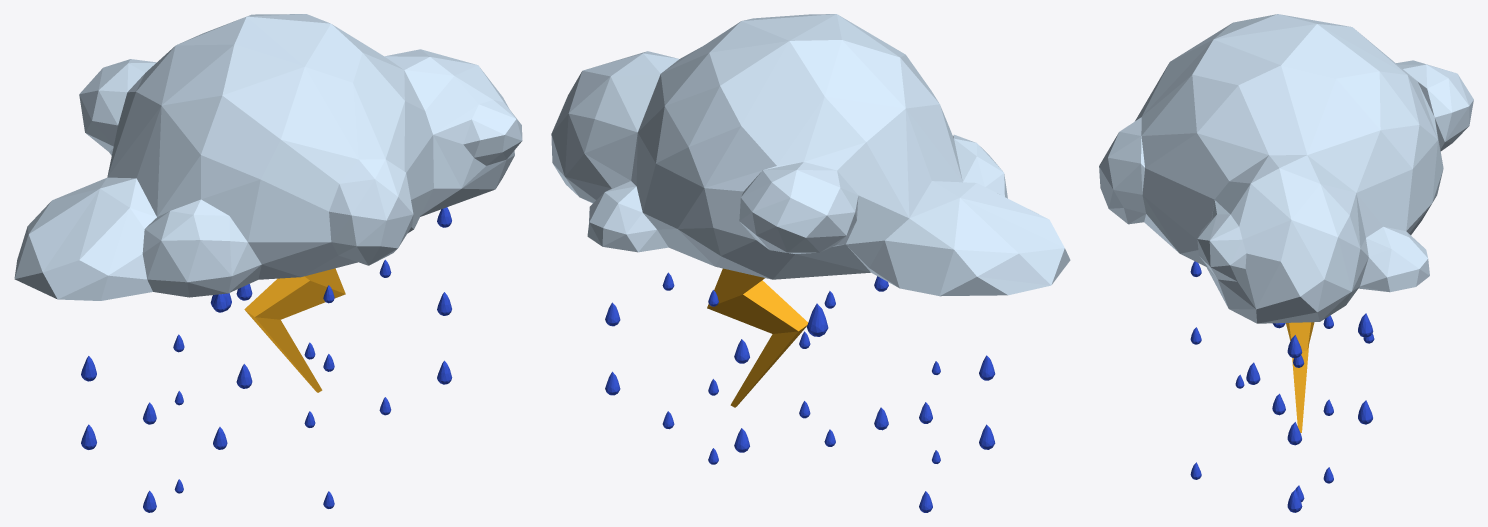
Rendered from Thunerstorm.gltf.
3 views of the same model, side by side, from view 1: azimuth 30°, elevation 25°; view 2: azimuth 150°, elevation 25°; view 3: azimuth 270°, elevation 25° (orthographic). The views are drawn at different scales.
Parts seen in each view (by area): view 1: Icosphere.005, Cube; view 2: Icosphere.005, Cube; view 3: Icosphere.005, Cube.
Boxes of the visible parts, box(x1,y1,x2,y2) form: Icosphere.005: box(14, 14, 522, 300); Cube: box(244, 268, 345, 392); Icosphere.005: box(551, 14, 1070, 296); Cube: box(707, 268, 808, 407); Icosphere.005: box(1099, 14, 1473, 323); Cube: box(1286, 322, 1314, 432).
Size of the model in its own units: 4.19 by 3.7 by 2.82.
